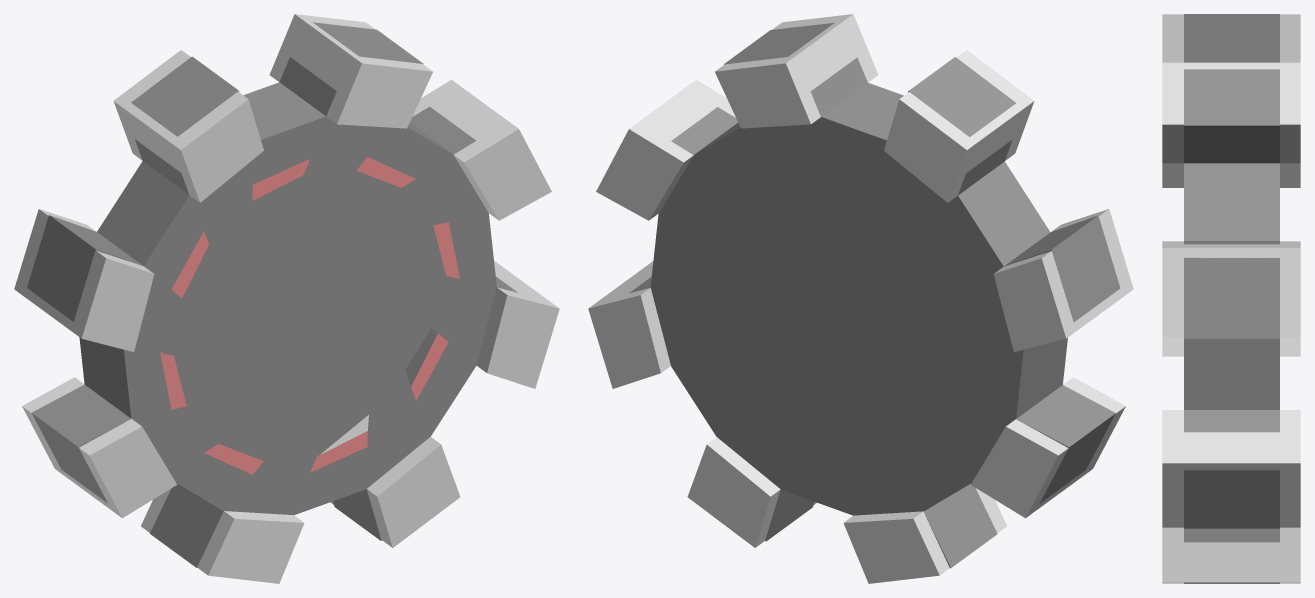
The model's file is Gear.FBX.
3 views of the same model, side by side, from view 1: azimuth 30°, elevation 25°; view 2: azimuth 150°, elevation 25°; view 3: azimuth 270°, elevation 25° (orthographic). The views are drawn at different scales.
Parts seen in each view (by area): view 1: Cylinder002, Box001, Box008, Box002, Box007, Box006, Box004, Box003, Box005; view 2: Cylinder002, Box001, Box008, Box002, Box007, Box006, Box003, Box005, Box004; view 3: Cylinder002, Box003, Box004, Box002, Box001, Box008, Box007, Box006.
Part boxes in pixels (x1=…): Cylinder002: x1=27, y1=22, x2=517, y2=567; Box001: x1=269, y1=14, x2=432, y2=128; Box008: x1=113, y1=50, x2=263, y2=202; Box002: x1=412, y1=79, x2=551, y2=220; Box007: x1=14, y1=209, x2=154, y2=351; Box006: x1=22, y1=377, x2=176, y2=518; Box004: x1=320, y1=415, x2=460, y2=547; Box003: x1=430, y1=261, x2=559, y2=388; Box005: x1=141, y1=489, x2=304, y2=583; Cylinder002: x1=629, y1=22, x2=1120, y2=568; Box001: x1=715, y1=14, x2=878, y2=128; Box008: x1=884, y1=50, x2=1034, y2=202; Box002: x1=596, y1=79, x2=735, y2=220; Box007: x1=993, y1=209, x2=1133, y2=351; Box006: x1=971, y1=377, x2=1125, y2=518; Box003: x1=588, y1=261, x2=670, y2=388; Box005: x1=843, y1=488, x2=1006, y2=583; Box004: x1=687, y1=437, x2=816, y2=547; Cylinder002: x1=1184, y1=14, x2=1279, y2=583; Box003: x1=1162, y1=410, x2=1300, y2=527; Box004: x1=1162, y1=527, x2=1300, y2=583; Box002: x1=1162, y1=241, x2=1300, y2=337; Box001: x1=1162, y1=62, x2=1300, y2=163; Box008: x1=1162, y1=14, x2=1300, y2=62; Box007: x1=1162, y1=163, x2=1300, y2=187; Box006: x1=1162, y1=337, x2=1300, y2=356.
Size of what is drawn, in the model's own units: 394 by 394 by 96.41.
